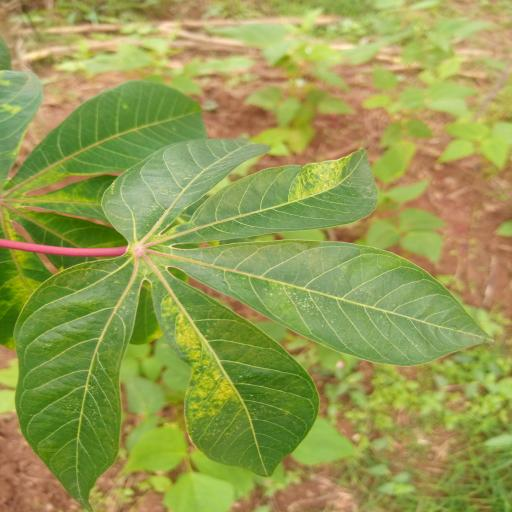Cassava_Mosaic: (8, 132, 491, 512)
